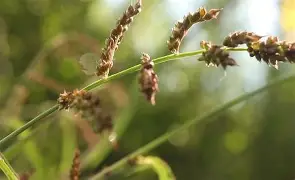weed: (97, 3, 295, 94)
